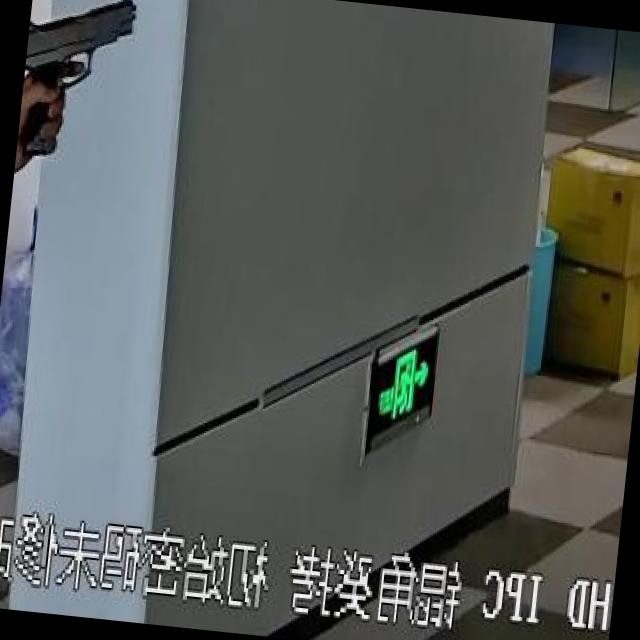Guns: (13, 0, 150, 183)
